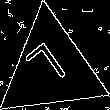L_SE: (26, 39, 77, 98)
